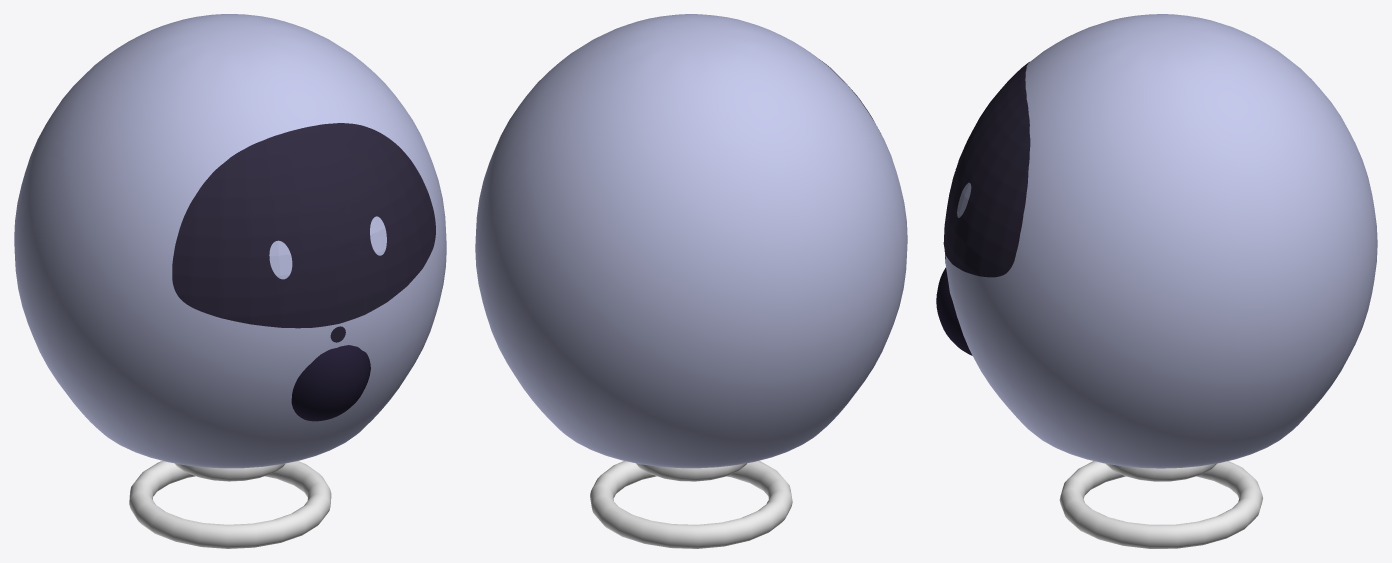
File: buddy.fbx
3 renders of one model, left to right at view 1: azimuth 30°, elevation 25°; view 2: azimuth 150°, elevation 25°; view 3: azimuth 270°, elevation 25°, orthographic.
Visible parts, largest first — view 1: Sphere.002, Circle, Torus.004, Sphere.003, Torus.006, Circle.002, Circle.003; view 2: Sphere.002, Torus.004, Torus.006; view 3: Sphere.002, Circle, Torus.004, Sphere.003, Torus.006.
Part boxes in pixels (x1,y1,x2,y2): Sphere.002: (14, 14, 446, 468); Circle: (172, 123, 435, 328); Torus.004: (129, 461, 331, 548); Sphere.003: (291, 345, 370, 421); Torus.006: (175, 463, 284, 481); Circle.002: (269, 240, 292, 279); Circle.003: (370, 216, 386, 255); Sphere.002: (475, 14, 907, 468); Torus.004: (590, 461, 792, 548); Torus.006: (636, 463, 746, 481); Sphere.002: (945, 14, 1377, 468); Circle: (943, 62, 1030, 277); Torus.004: (1059, 461, 1262, 548); Sphere.003: (936, 267, 972, 355); Torus.006: (1105, 463, 1216, 481).
Bounding box in the file's own units: 13.66 × 16.58 × 13.92.
